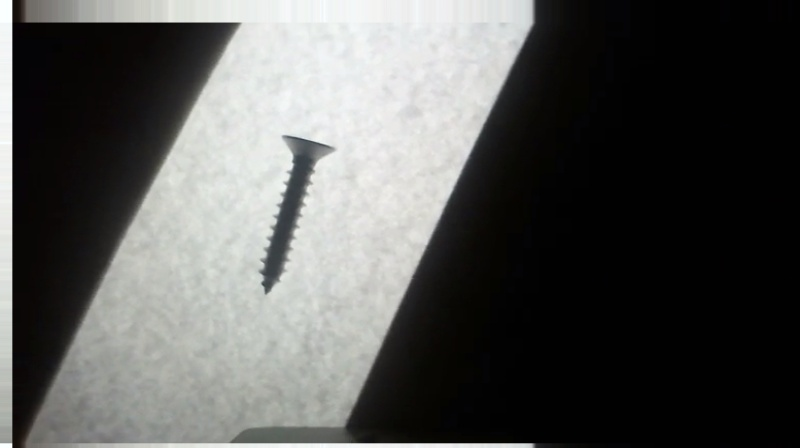S001: (253, 130, 341, 299)
